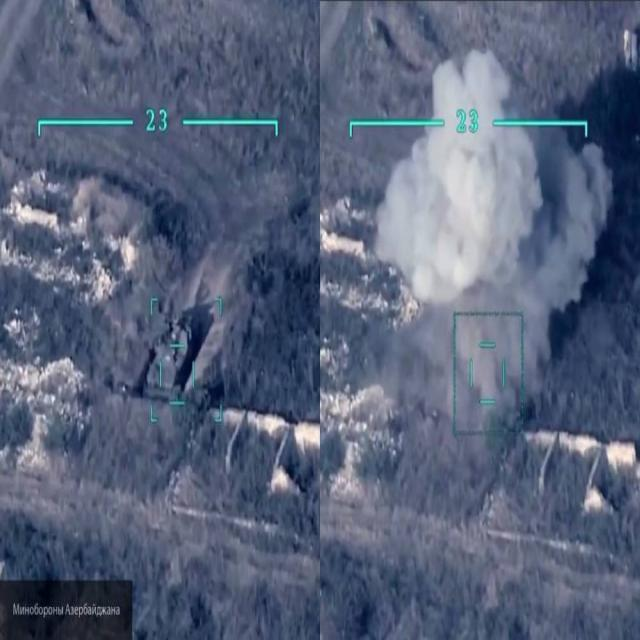cars: (146, 315, 195, 399)
